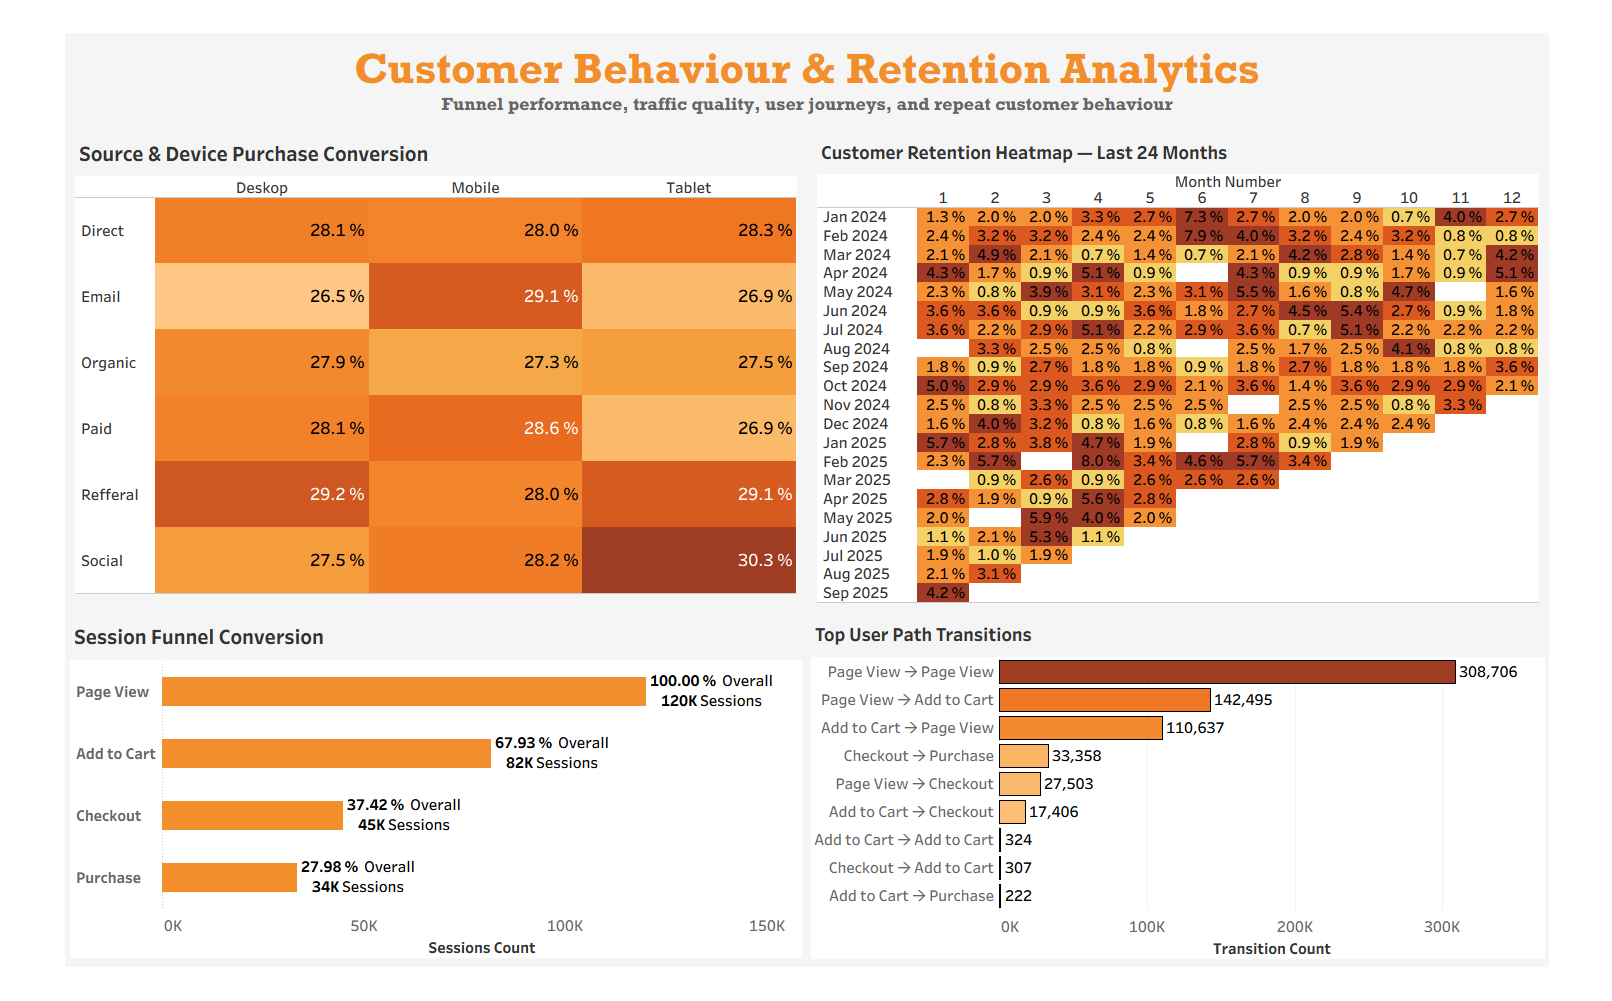

The page's visual inventory and layout, read from the dashboard file:
{"tool":"tableau","page":{"name":"Customer Behaviour & Retention Analytics","canvas":[1500,950],"ordinal":0},"visuals":[{"type":"text","box":[8,8,1484,92]},{"type":"worksheet","title":"Source & Device Conversion","mark":"Square","rows":["traffic_source"],"cols":["device_type"],"box":[8,100,742,488]},{"type":"worksheet","title":"Cohort Retention Heatmap","mark":"Square","rows":["Calculation_1224312465412123"],"cols":["month_number"],"box":[750,100,742,488]},{"type":"worksheet","title":"Funnel Conversion","mark":"Bar","rows":["stage_order","event_type"],"cols":["sessions_count"],"box":[8,588,742,354]},{"type":"worksheet","title":"User Path Flow","mark":"Bar","rows":["Calculation_1224313043709997"],"cols":["transition_count"],"box":[750,588,742,354]}]}

Visuals, with their boxes in screenshot pixels (x1, y1, x2, y2), scaled from the page's 1500x950 canvas onto the 1612x1001 screenshot:
text: pyautogui.locateOnScreen(9, 8, 1603, 105)
"Source & Device Conversion" worksheet (Square marks): pyautogui.locateOnScreen(9, 105, 806, 620)
"Cohort Retention Heatmap" worksheet (Square marks): pyautogui.locateOnScreen(806, 105, 1603, 620)
"Funnel Conversion" worksheet (Bar marks): pyautogui.locateOnScreen(9, 620, 806, 993)
"User Path Flow" worksheet (Bar marks): pyautogui.locateOnScreen(806, 620, 1603, 993)
